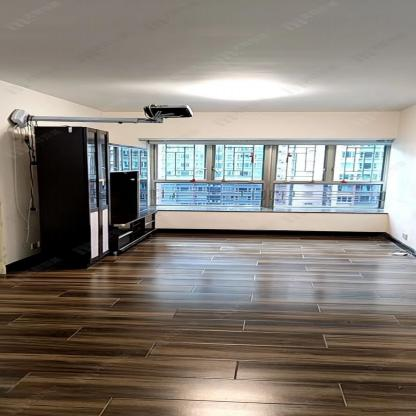Cupboard: (34, 126, 111, 266)
Windowsill: (143, 138, 395, 215)
